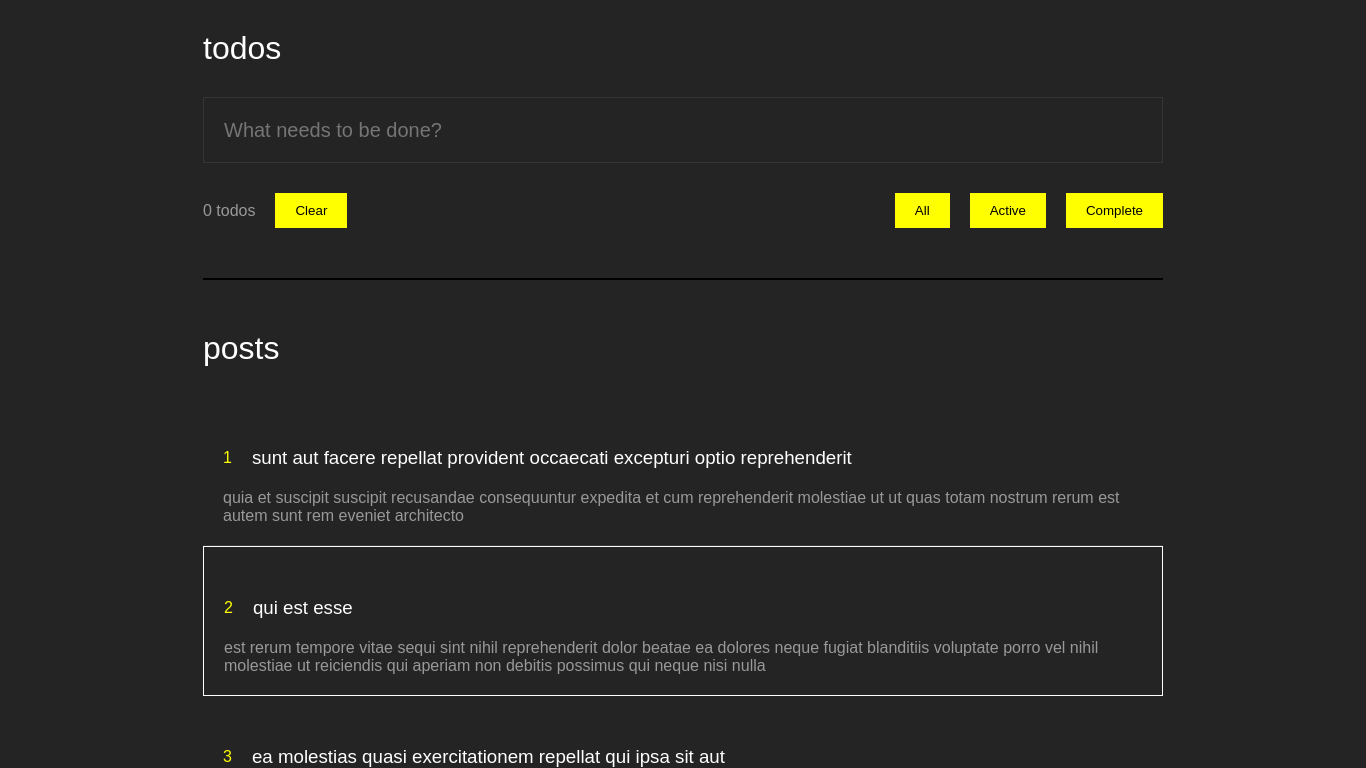
Todos footer › count › with a single todo › count has a value of 1 for a single todo
In the field with id "newTodo": (683, 130) [203,97,1163,163], type "Walk the dog"
Then press Enter
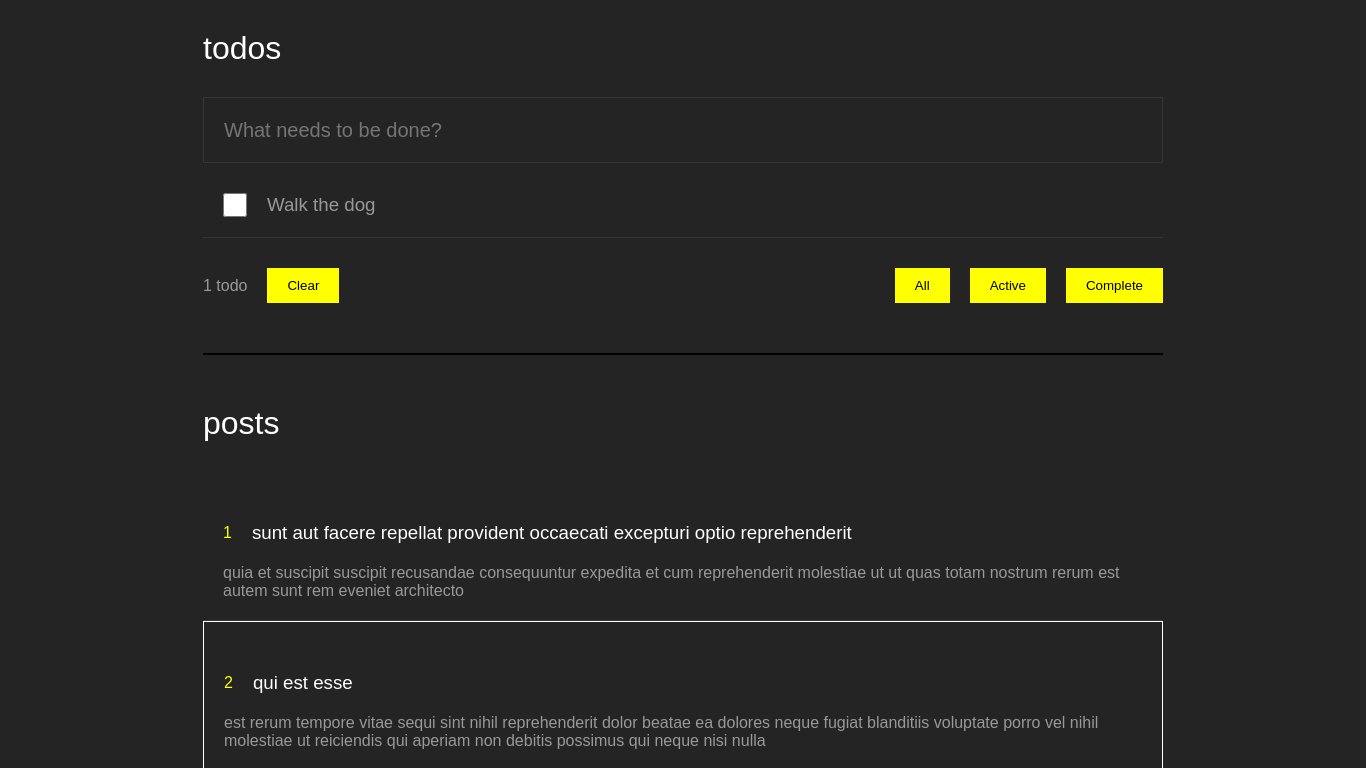
Now the text with id "count" shows "1", box [203,277,247,294]
